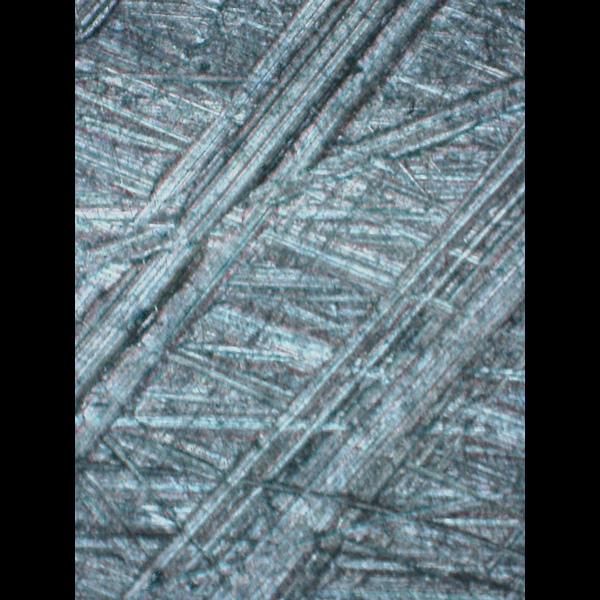d: (120, 117, 525, 599), (75, 0, 441, 465)
